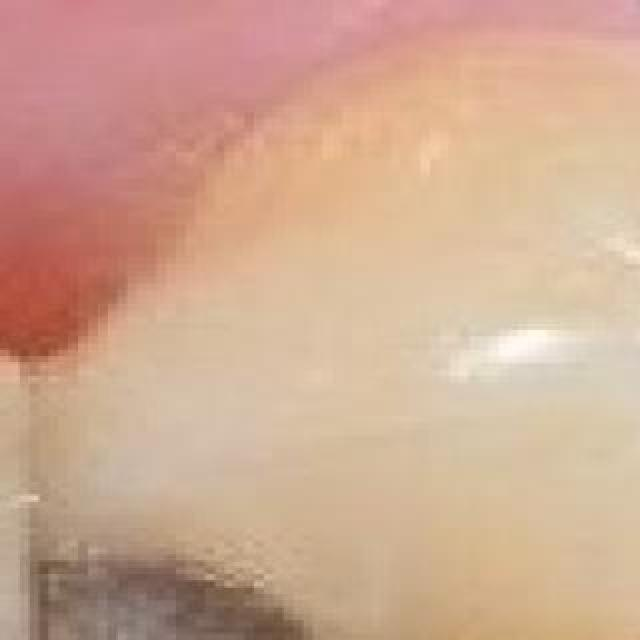cavities: (276, 480, 640, 640)
